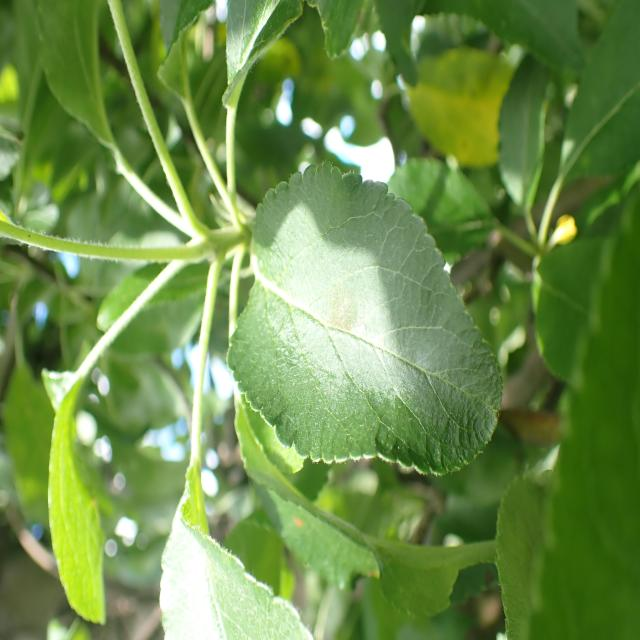scab: (257, 252, 431, 404)
